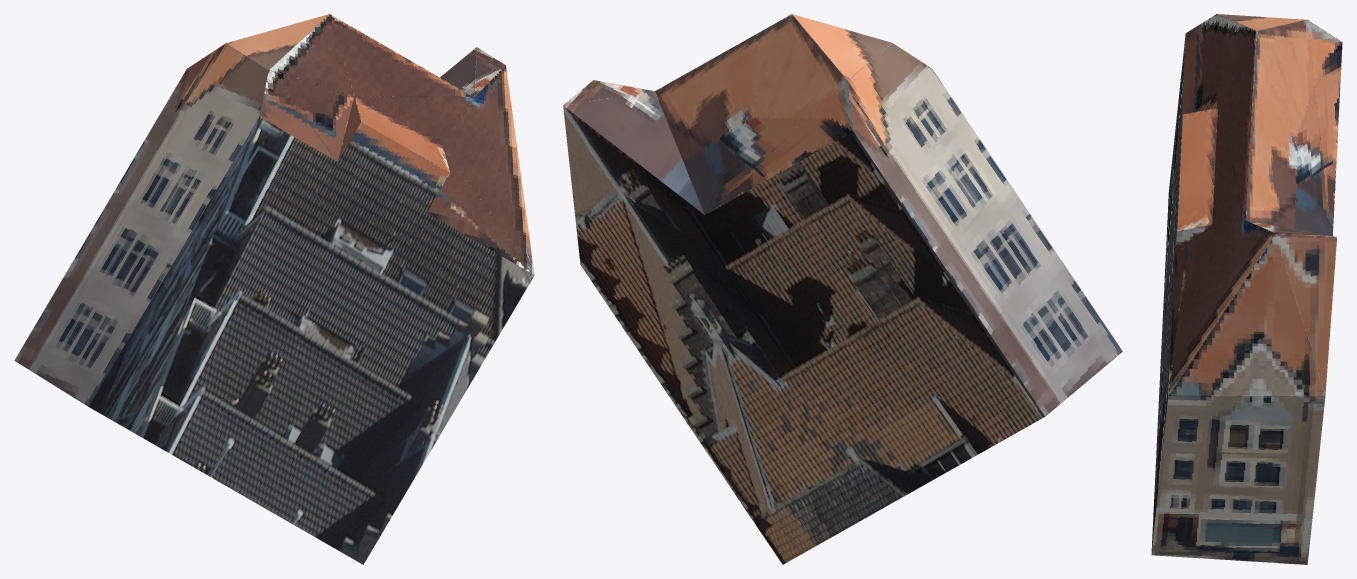
The picture shows the model from 3 angles, left to right: view 1: azimuth 30°, elevation 25°; view 2: azimuth 150°, elevation 25°; view 3: azimuth 270°, elevation 25°; orthographic projection. The views are drawn at different scales.
Parts seen in each view (by area): view 1: BAG_0599100000671599 (×5); view 2: BAG_0599100000671599 (×4); view 3: BAG_0599100000671599 (×5).
Part boxes in pixels (x1,y1,x2,y2): BAG_0599100000671599 (×5): (14,14,534,564); BAG_0599100000671599 (×4): (563,14,1122,564); BAG_0599100000671599 (×5): (1151,14,1342,564).
Size of the model in its own units: 22.16 by 23.44 by 7.49.
5 materials, 5 textured.
